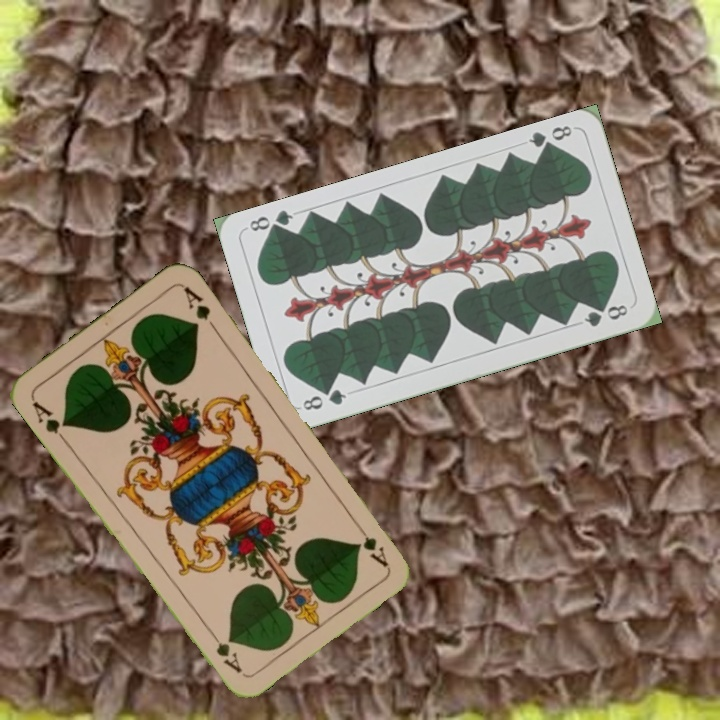G8: (524, 121, 577, 156), (298, 385, 349, 413)
GA: (350, 518, 391, 570), (28, 397, 71, 446)
